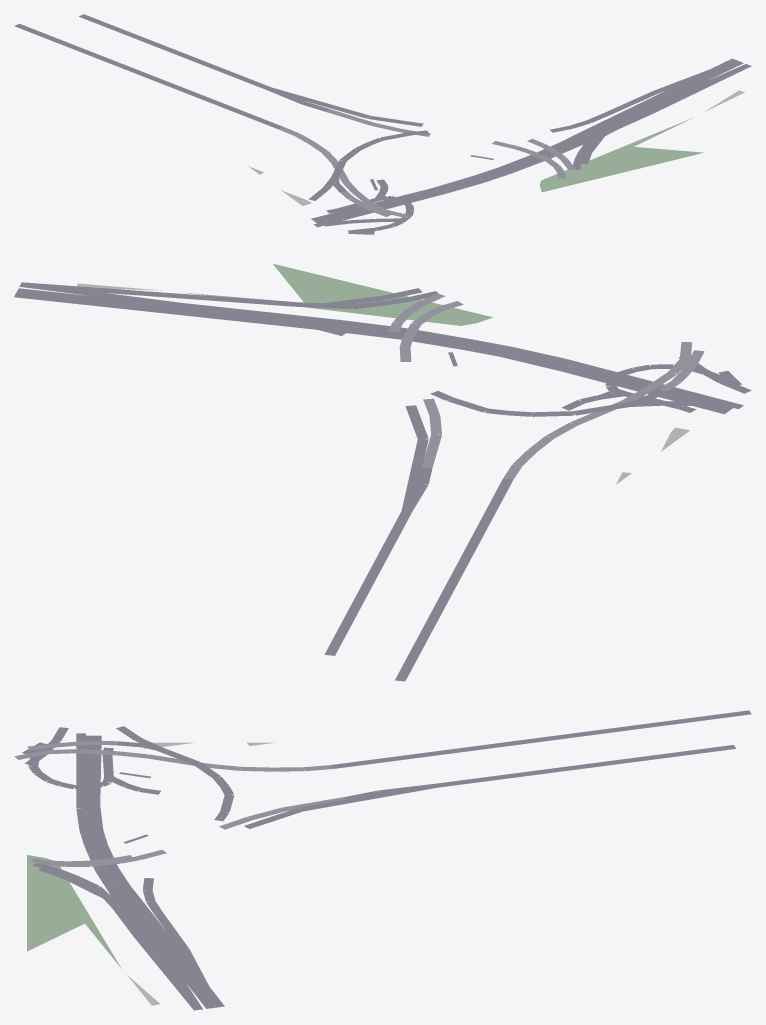
Rendered from 137_98_mid.glb.
3 views of the same model, one above another, from view 1: azimuth 30°, elevation 25°; view 2: azimuth 150°, elevation 25°; view 3: azimuth 270°, elevation 25° (orthographic). The views are drawn at different scales.
Size of the model in its own units: 513 by 14.28 by 528.
